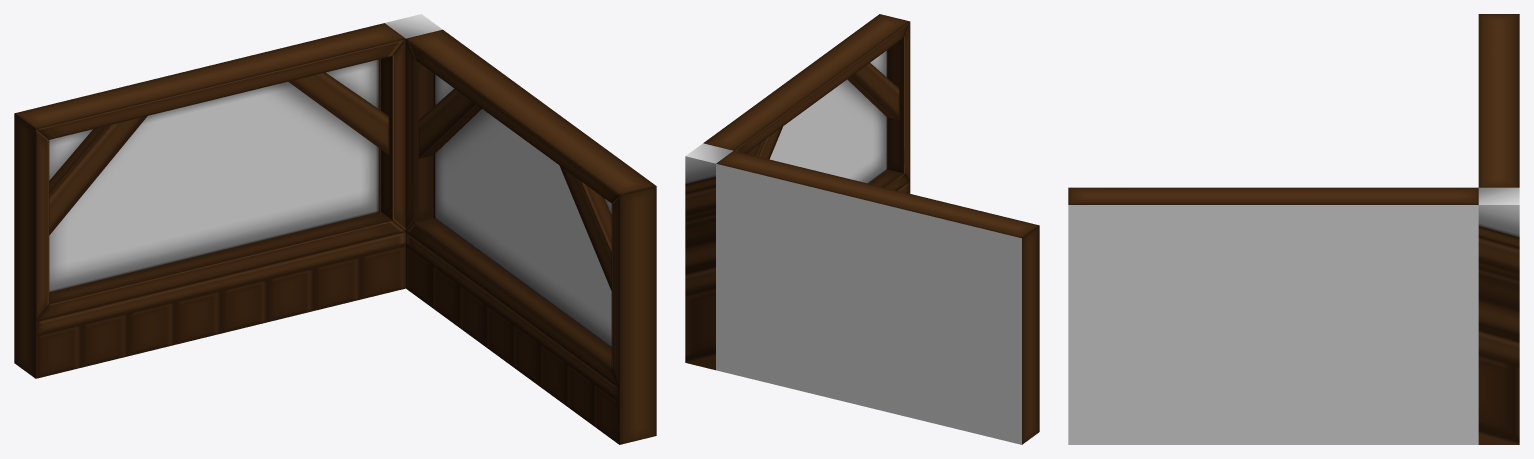
File: wall.FBX
The picture shows the model from 3 angles, left to right: view 1: azimuth 30°, elevation 25°; view 2: azimuth 150°, elevation 25°; view 3: azimuth 270°, elevation 25°; orthographic projection. The views are drawn at different scales.
Parts seen in each view (by area): view 1: Object003; view 2: Object003; view 3: Object003.
Part boxes in pixels (left/top/right/bottom): Object003: left=14, top=14, right=656, bottom=444; Object003: left=685, top=14, right=1039, bottom=444; Object003: left=1068, top=14, right=1519, bottom=444.
Bounding box in the file's own units: 11 × 6.45 × 11.
